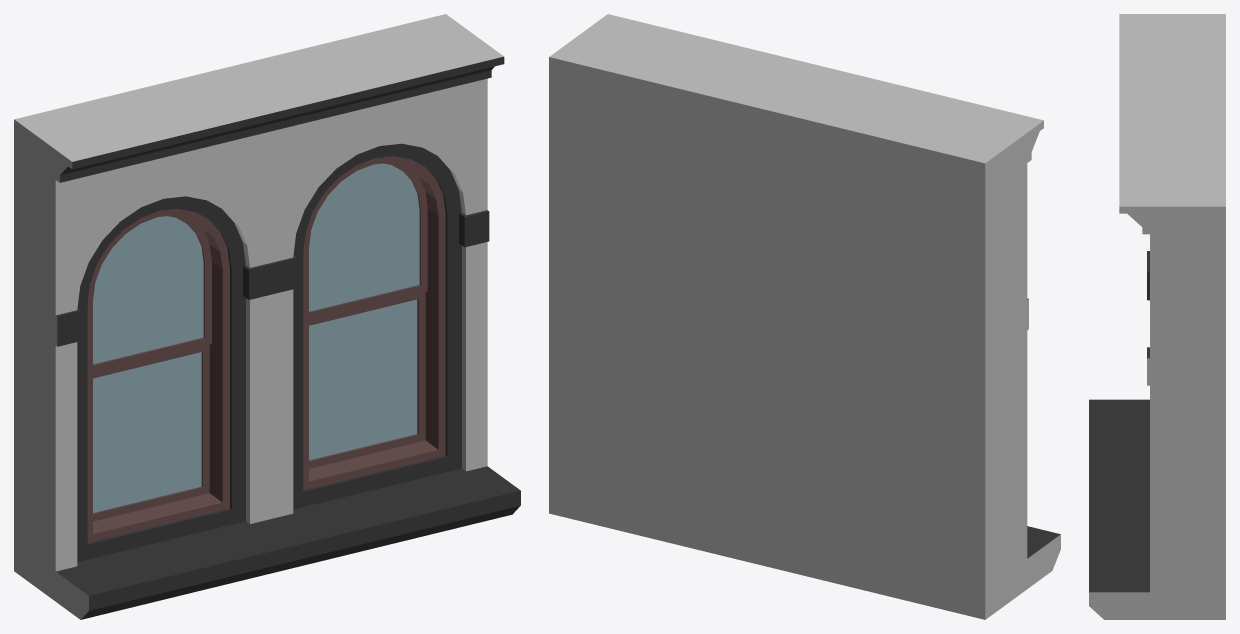
File: WindowsTile1.fbx
The picture shows the model from 3 angles, left to right: view 1: azimuth 30°, elevation 25°; view 2: azimuth 150°, elevation 25°; view 3: azimuth 270°, elevation 25°; orthographic projection. The views are drawn at different scales.
Parts seen in each view (by area): view 1: Tile4; view 2: Tile4; view 3: Tile4.
Boxes of the visible parts, left/top/right/bottom form: Tile4: left=14, top=14, right=520, bottom=619; Tile4: left=549, top=14, right=1060, bottom=619; Tile4: left=1089, top=14, right=1225, bottom=619.
Size of the model in its own units: 3 by 3 by 0.9.
